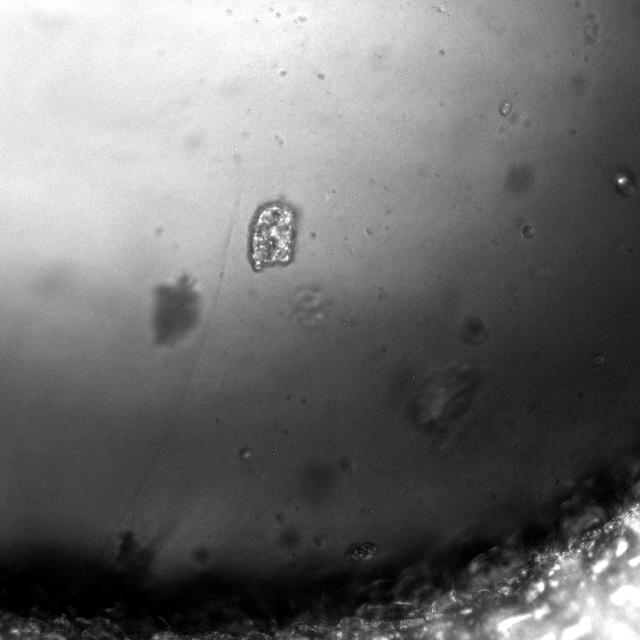organoid: (406, 365, 482, 436), (248, 200, 297, 272), (152, 274, 201, 346), (344, 541, 378, 562)
